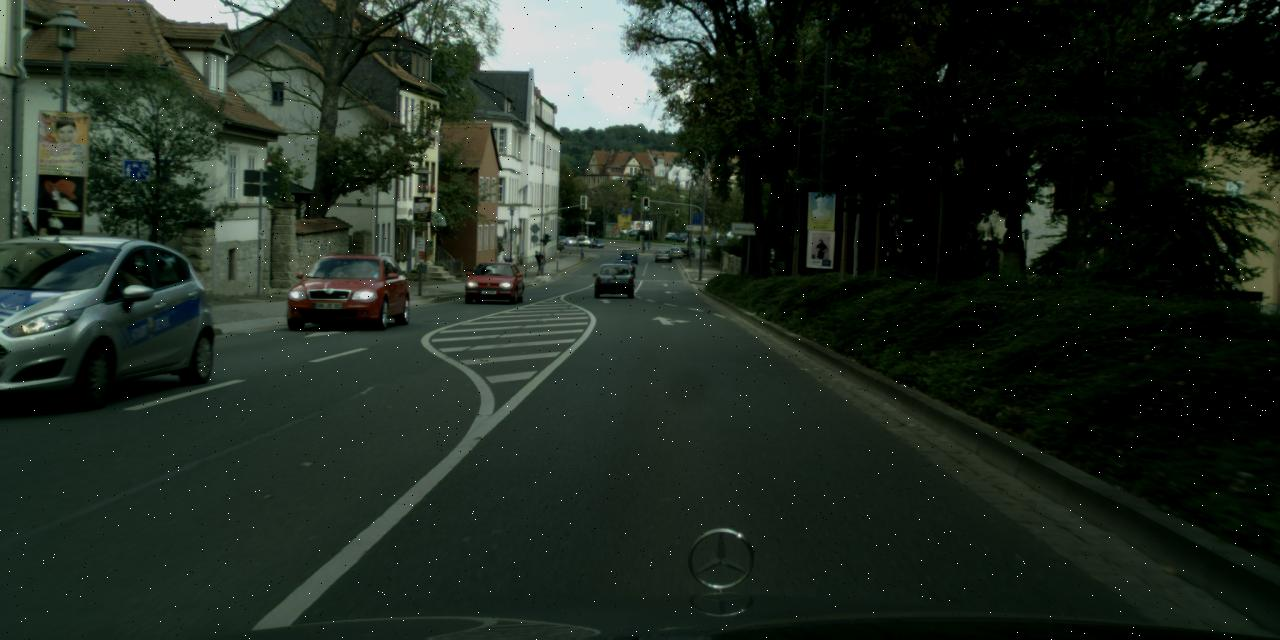ped: (1159, 220, 1215, 358), (4, 207, 40, 295), (495, 245, 508, 278), (533, 249, 543, 275)
